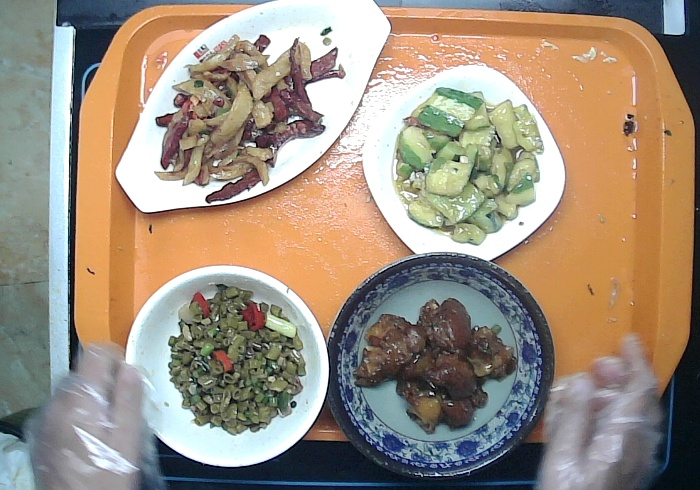ZNLD-Qing_Hua_Wan: (324, 248, 557, 483)
ZNLD-Si_Fang_Wan: (361, 62, 568, 262)
ZNLD-Tang_Wan: (122, 263, 333, 468)
ZNLD-Yu_Pan: (112, 1, 393, 215)
